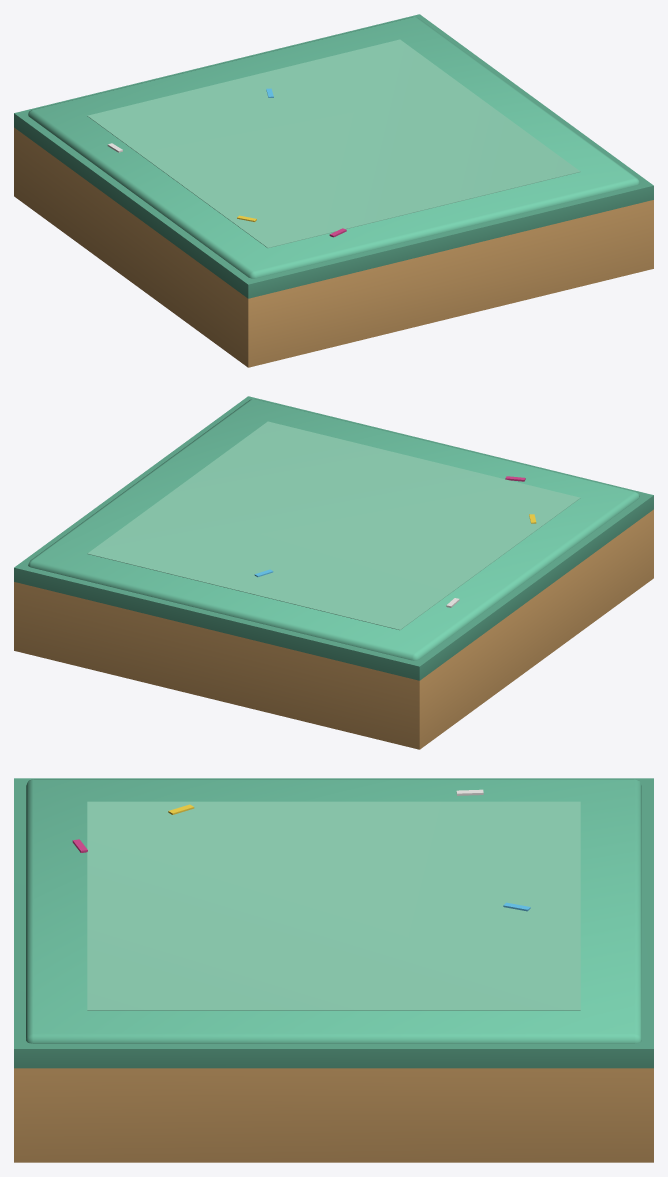
File: candy_tile_mint.glb
The picture shows the model from 3 angles, top to bottom: view 1: azimuth 30°, elevation 25°; view 2: azimuth 150°, elevation 25°; view 3: azimuth 270°, elevation 25°; orthographic projection. The views are drawn at different scales.
Visible parts, largest first — view 1: C_Tile_mint__C_s_mint_5, C_Tile_mint__C_bisc_8, C_Tile_mint__C_i_mint_5, C_Tile_mint__C_g_mint_5; view 2: C_Tile_mint__C_s_mint_5, C_Tile_mint__C_bisc_8, C_Tile_mint__C_i_mint_5, C_Tile_mint__C_g_mint_5; view 3: C_Tile_mint__C_s_mint_5, C_Tile_mint__C_bisc_8, C_Tile_mint__C_i_mint_5, C_Tile_mint__C_g_mint_5.
Part boxes in pixels (x1,y1,x2,y2): C_Tile_mint__C_s_mint_5: (87,39,580,248); C_Tile_mint__C_bisc_8: (14,127,653,367); C_Tile_mint__C_i_mint_5: (28,17,639,278); C_Tile_mint__C_g_mint_5: (14,14,653,298); C_Tile_mint__C_s_mint_5: (87,421,580,630); C_Tile_mint__C_bisc_8: (14,509,653,749); C_Tile_mint__C_i_mint_5: (28,399,639,660); C_Tile_mint__C_g_mint_5: (14,396,653,680); C_Tile_mint__C_s_mint_5: (87,801,580,1010); C_Tile_mint__C_bisc_8: (14,1068,653,1162); C_Tile_mint__C_i_mint_5: (26,779,641,1043); C_Tile_mint__C_g_mint_5: (14,778,653,1068).
Size of the model in its own units: 4.8 by 1.02 by 4.8.
